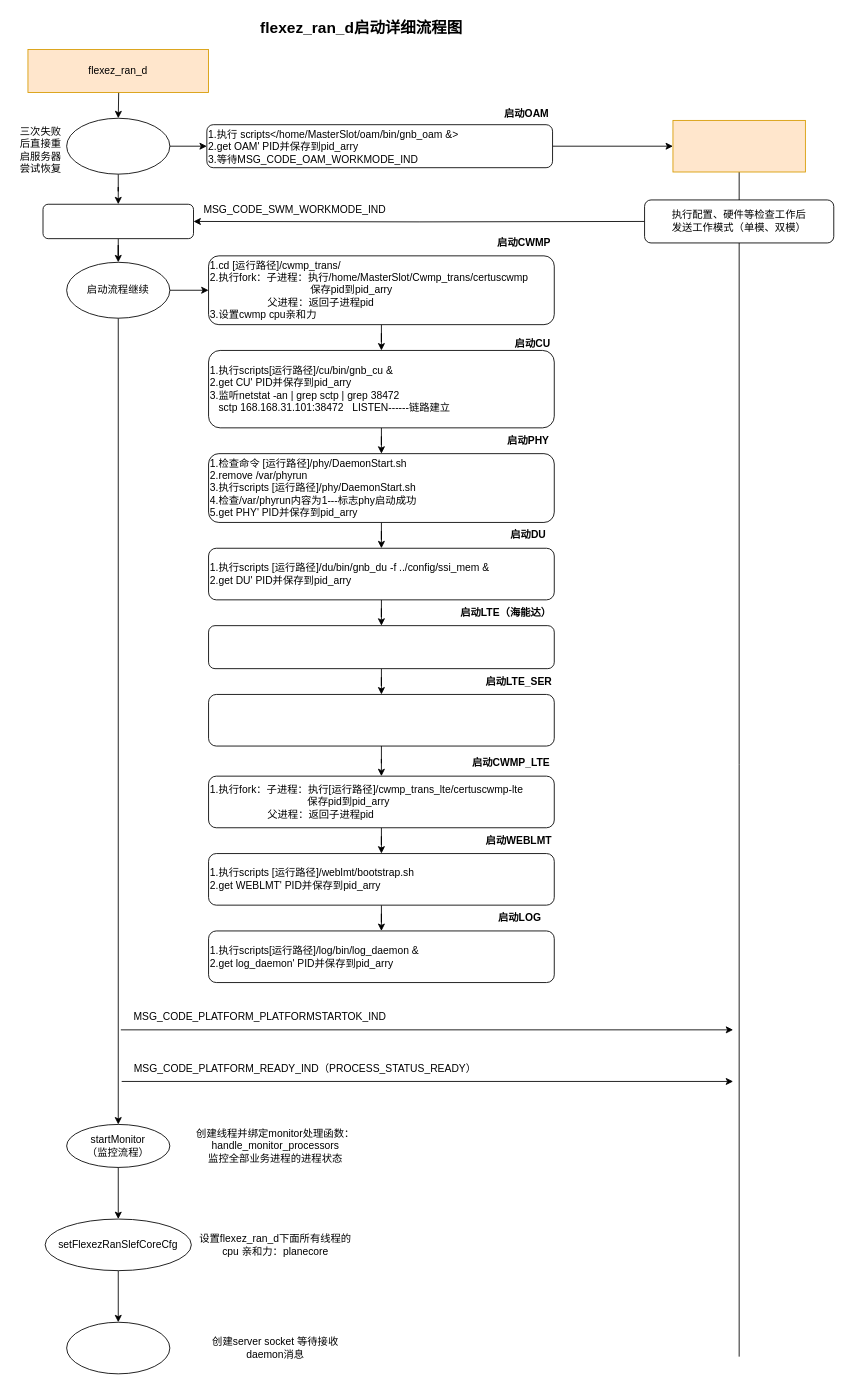
The diagram is 849 pixels wide and 1389 high, and some of its shapes have lost their labels. Each missing label, with the centre of its shape:
1.执行scripts[运行路径]/LTE/user/Area0/start.sh & 2.get lte_daemon' PID并保存到pid_arry: point (381, 647)
1.执行scripts[运行路径]/lte_ser/lte_ser_omc & 2.get lte_ser_omc' PID并保存到pid_arry: point (381, 720)
cts_socket_recv: point (118, 1347)
OAM: point (738, 146)
start_strategy （启动流程）: point (118, 145)
等待工作模式（15分钟超时）: point (118, 221)
